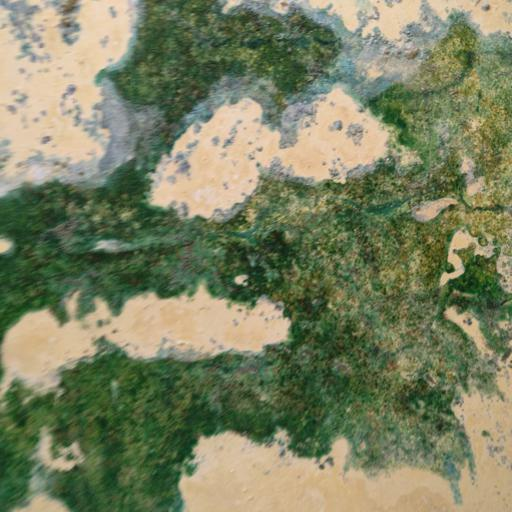algae: (0, 19, 512, 512)
